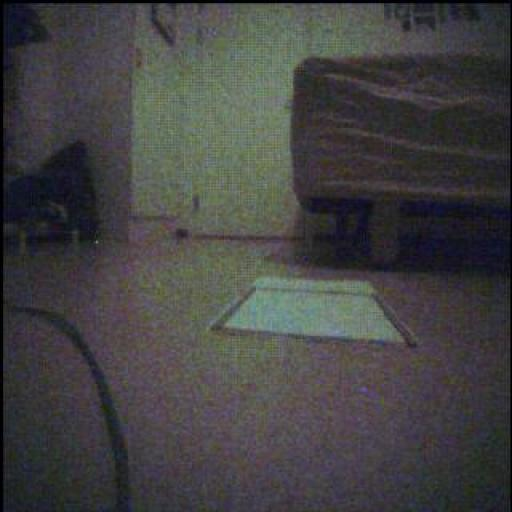pad: (211, 278, 417, 347)
